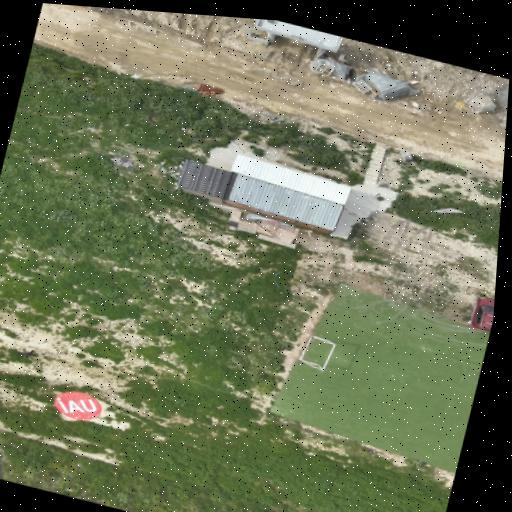car: (470, 298, 494, 332)
person: (23, 351, 36, 358)
uai: (53, 391, 100, 419)
